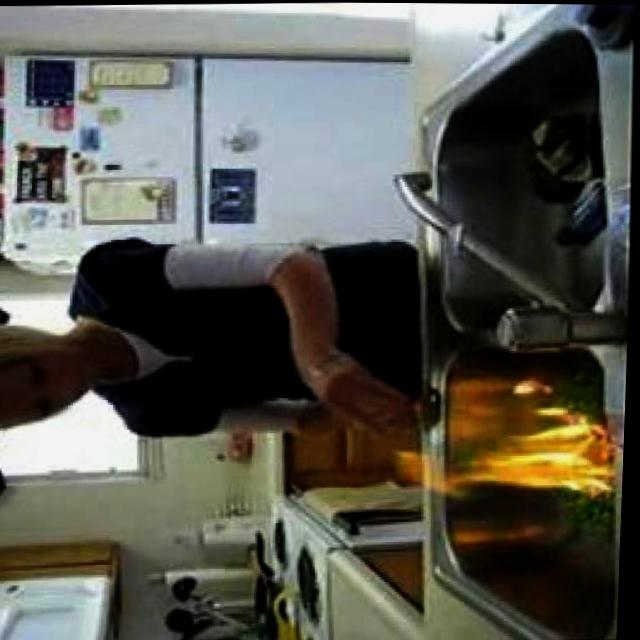Fire: (428, 412, 620, 501)
